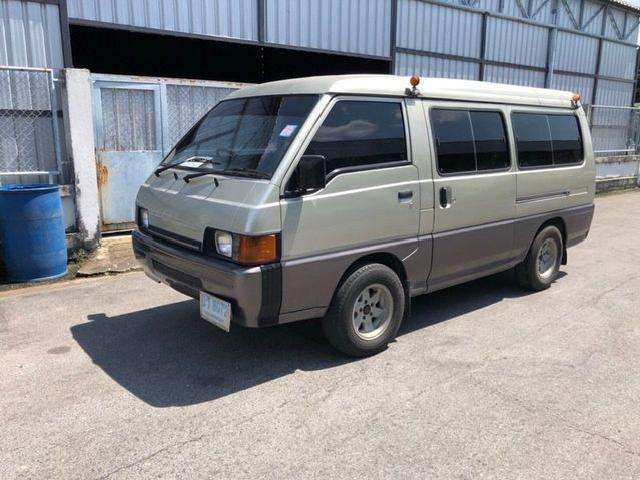van: (133, 74, 599, 359)
